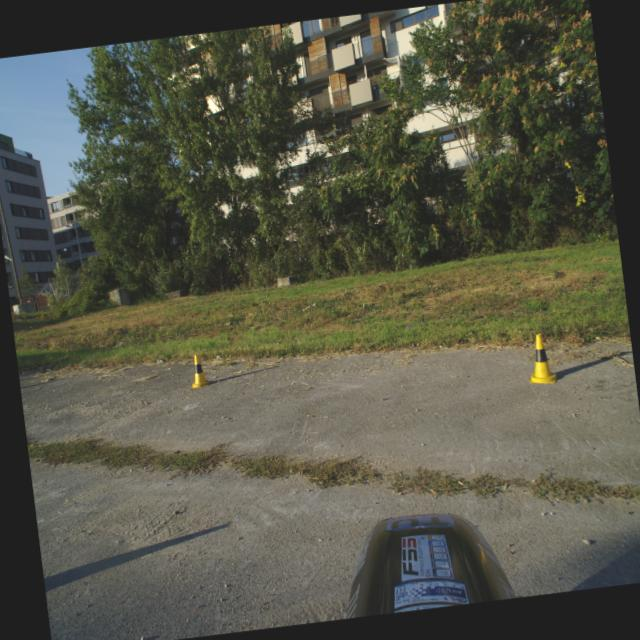yellow_cone: (524, 332, 558, 386), (188, 352, 208, 388)
